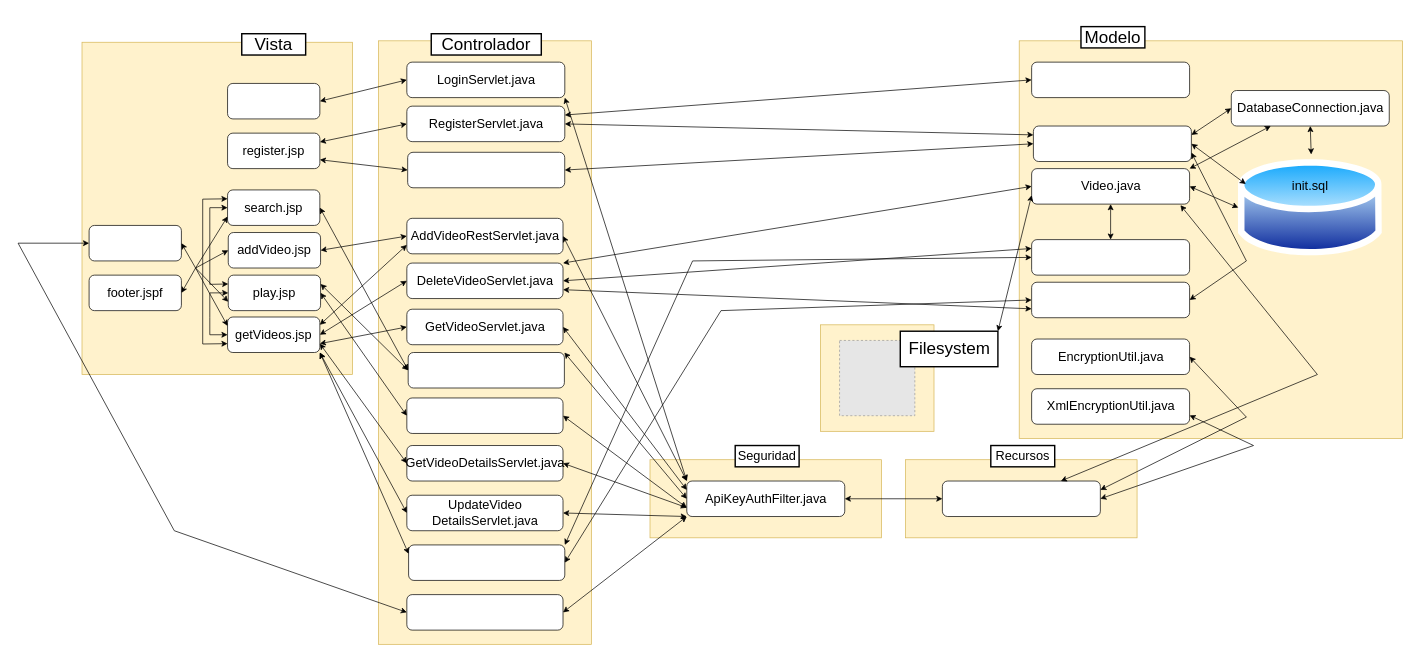
Image size: 1415x657. Some labels were removed from this diagram. Grey dashed boxes stand in for pictures. Each missing label, with the box of its shape:
CheckUsername.java: (407, 152, 565, 188)
DebugJwsServlet.java: (406, 594, 563, 630)
DownloadMetadata XmlServlet.java: (408, 544, 565, 580)
header.jspf: (88, 225, 181, 261)
IncrementVideoViews RestServlet.java: (407, 352, 564, 388)
InsecurePassword Exception.java: (1031, 61, 1190, 98)
login.jsp: (227, 83, 320, 119)
PlayVideo Servlet.java: (406, 397, 563, 433)
User.java: (1033, 125, 1191, 162)
UserEntity.java: (1031, 282, 1190, 318)
VideoEntity.java: (1031, 239, 1190, 275)
VideoRestService.java: (942, 480, 1100, 517)
